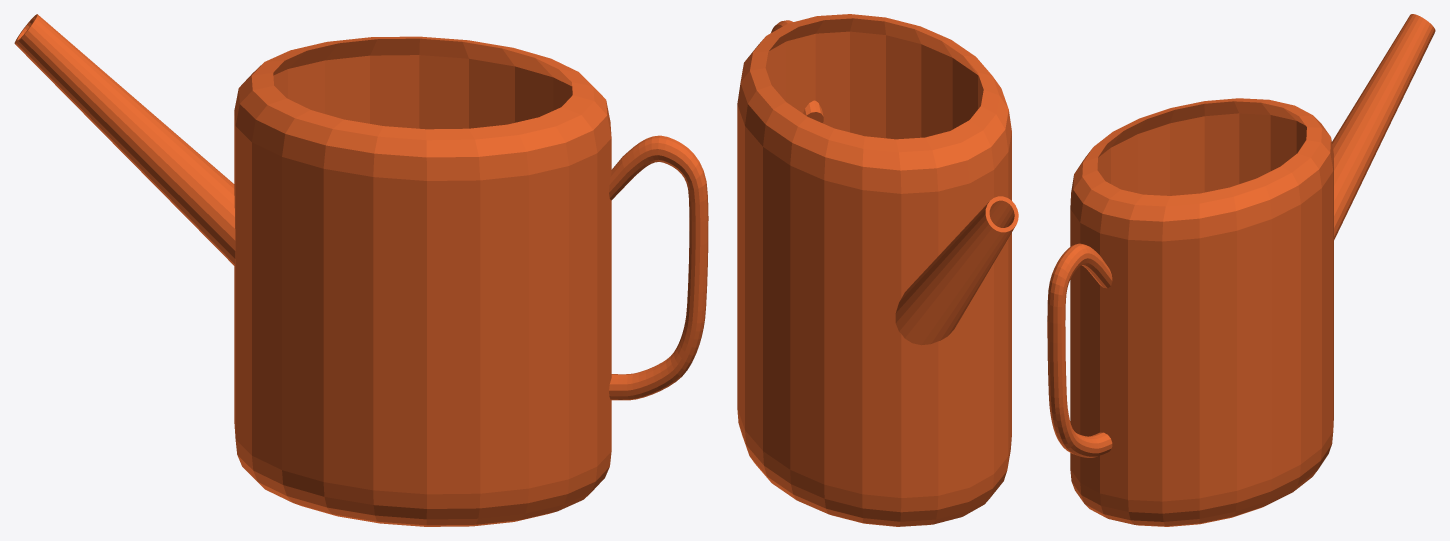
The model's file is Watering can.gltf.
The picture shows the model from 3 angles, left to right: view 1: azimuth 30°, elevation 25°; view 2: azimuth 150°, elevation 25°; view 3: azimuth 270°, elevation 25°; orthographic projection. The views are drawn at different scales.
Visible parts, largest first — view 1: node-0; view 2: node-0; view 3: node-0.
Part boxes in pixels (box(x1,y1,x2,y2)): node-0: box(14, 14, 708, 526); node-0: box(737, 14, 1018, 526); node-0: box(1047, 14, 1435, 526).
Bounding box in the file's own units: 482042 × 419865 × 412090.
